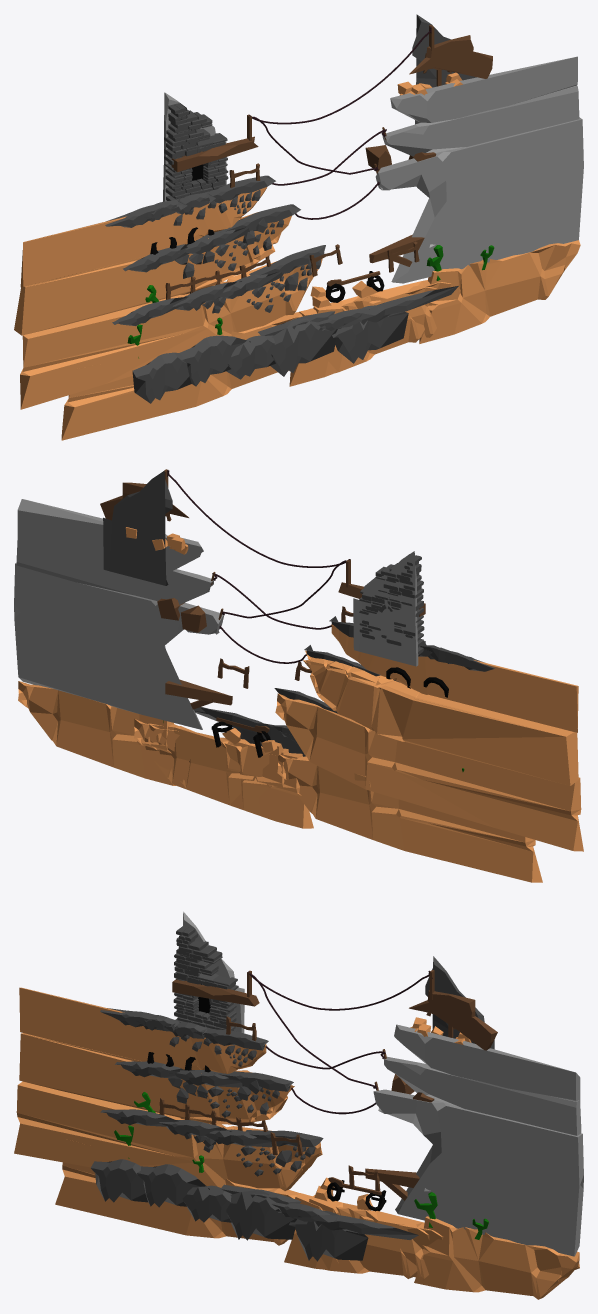
The model's file is Cliff platforming Level 1.fbx.
The picture shows the model from 3 angles, top to bottom: view 1: azimuth 30°, elevation 25°; view 2: azimuth 150°, elevation 25°; view 3: azimuth 330°, elevation 25°; orthographic projection.
Parts seen in each view (by area): view 1: Cube.003, Cube, Cube.001, Cube.002, Cube.128, Cube.006, Cube.008, Cube.007, Wall, Cube.119, Cube.108, Cube.122 (+22 smaller); view 2: Cube.003, Cube, Cube.001, Cube.006, Cube.002, Cube.128, Cube.133, Cube.119, Cube.007, Cube.118, Cube.011, Cube.008 (+7 smaller); view 3: Cube.003, Cube, Cube.001, Cube.002, Cube.128, Cube.008, Cube.007, Cube.006, Wall, Cube.119, Cube.118, Cube.108 (+23 smaller).
Boxes of the visible parts, x1=… form: Cube.003: x1=375, y1=117, x2=583, y2=283; Cube: x1=20, y1=258, x2=322, y2=409; Cube.001: x1=14, y1=212, x2=291, y2=335; Cube.002: x1=20, y1=187, x2=266, y2=286; Cube.128: x1=419, y1=240, x2=580, y2=343; Cube.006: x1=61, y1=308, x2=312, y2=440; Cube.008: x1=390, y1=56, x2=577, y2=122; Cube.007: x1=382, y1=85, x2=579, y2=156; Wall: x1=164, y1=103, x2=228, y2=200; Cube.119: x1=313, y1=280, x2=460, y2=373; Cube.108: x1=270, y1=318, x2=337, y2=376; Cube.122: x1=332, y1=305, x2=408, y2=363; Cube.003: x1=14, y1=562, x2=224, y2=729; Cube: x1=275, y1=693, x2=583, y2=851; Cube.001: x1=303, y1=650, x2=578, y2=785; Cube.006: x1=277, y1=754, x2=542, y2=882; Cube.002: x1=331, y1=624, x2=578, y2=732; Cube.128: x1=18, y1=681, x2=175, y2=785; Cube.133: x1=103, y1=470, x2=172, y2=585; Cube.119: x1=134, y1=719, x2=290, y2=819; Cube.007: x1=16, y1=538, x2=213, y2=604; Cube.118: x1=148, y1=724, x2=313, y2=828; Cube.011: x1=353, y1=551, x2=418, y2=666; Cube.008: x1=17, y1=499, x2=203, y2=572; Cube.003: x1=373, y1=1089, x2=583, y2=1256; Cube: x1=14, y1=1081, x2=322, y2=1190; Cube.001: x1=19, y1=1033, x2=294, y2=1124; Cube.002: x1=19, y1=987, x2=266, y2=1073; Cube.128: x1=414, y1=1216, x2=579, y2=1299; Cube.008: x1=394, y1=1024, x2=580, y2=1103; Cube.007: x1=383, y1=1056, x2=581, y2=1135; Cube.006: x1=55, y1=1139, x2=299, y2=1245; Wall: x1=173, y1=926, x2=238, y2=1030; Cube.119: x1=309, y1=1195, x2=443, y2=1280; Cube.118: x1=284, y1=1193, x2=429, y2=1278; Cube.108: x1=226, y1=1190, x2=296, y2=1240.
Bounding box in the file's own units: 1510 × 848 × 182.
